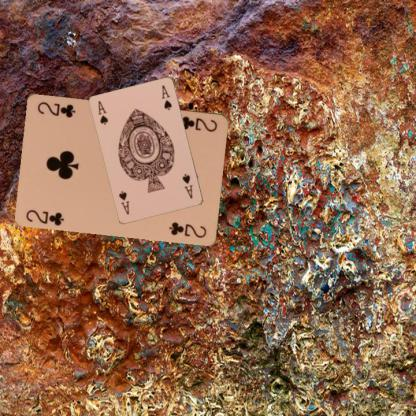2c: (178, 113, 218, 133), (24, 207, 66, 226)
As: (180, 171, 194, 200), (96, 98, 110, 126)
